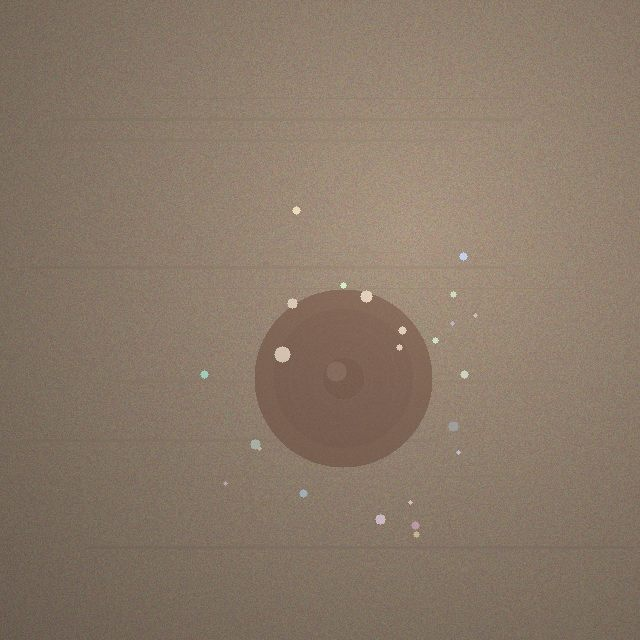overburn: (254, 289, 432, 467)
